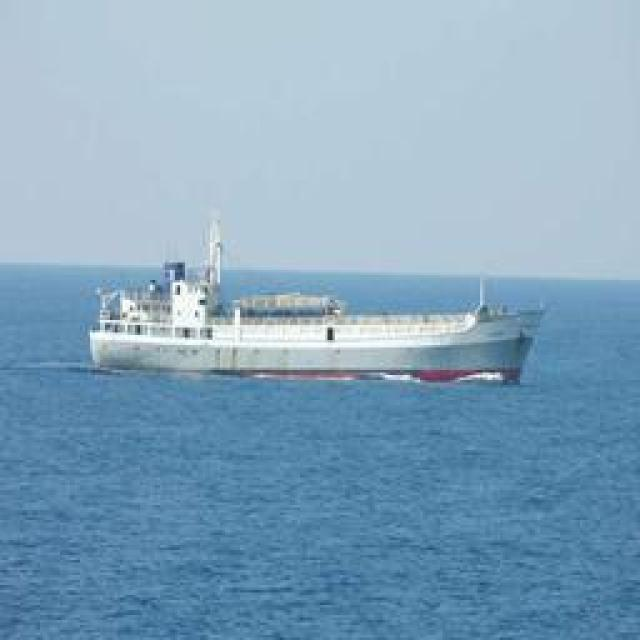ship: (86, 219, 536, 377)
